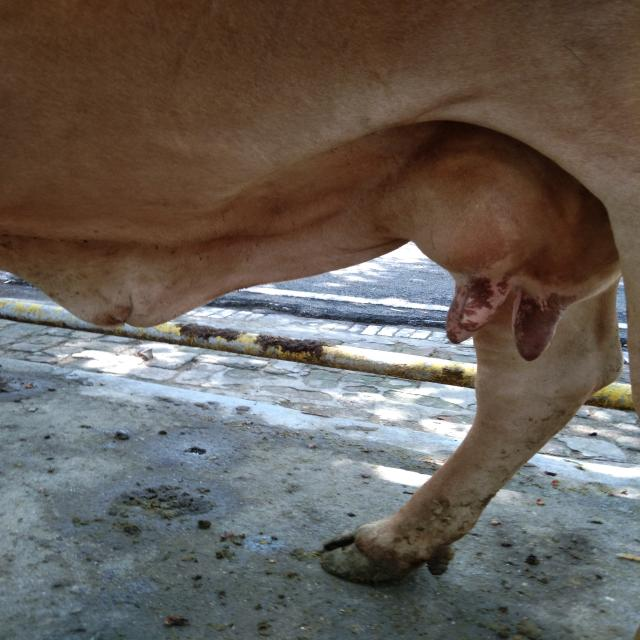Hoof: (319, 519, 455, 585)
